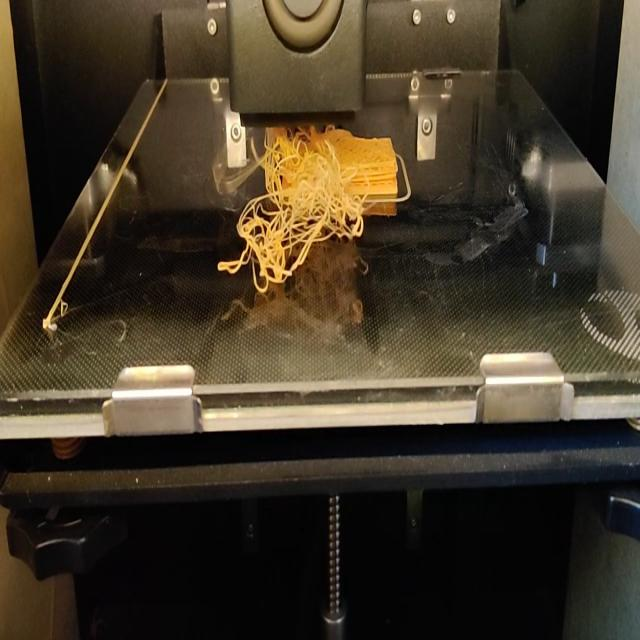spaghetti: (219, 126, 367, 300)
